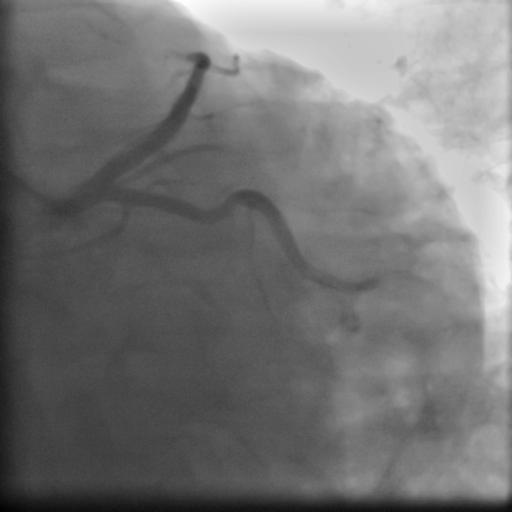Stenosis: (209, 196, 239, 220)
